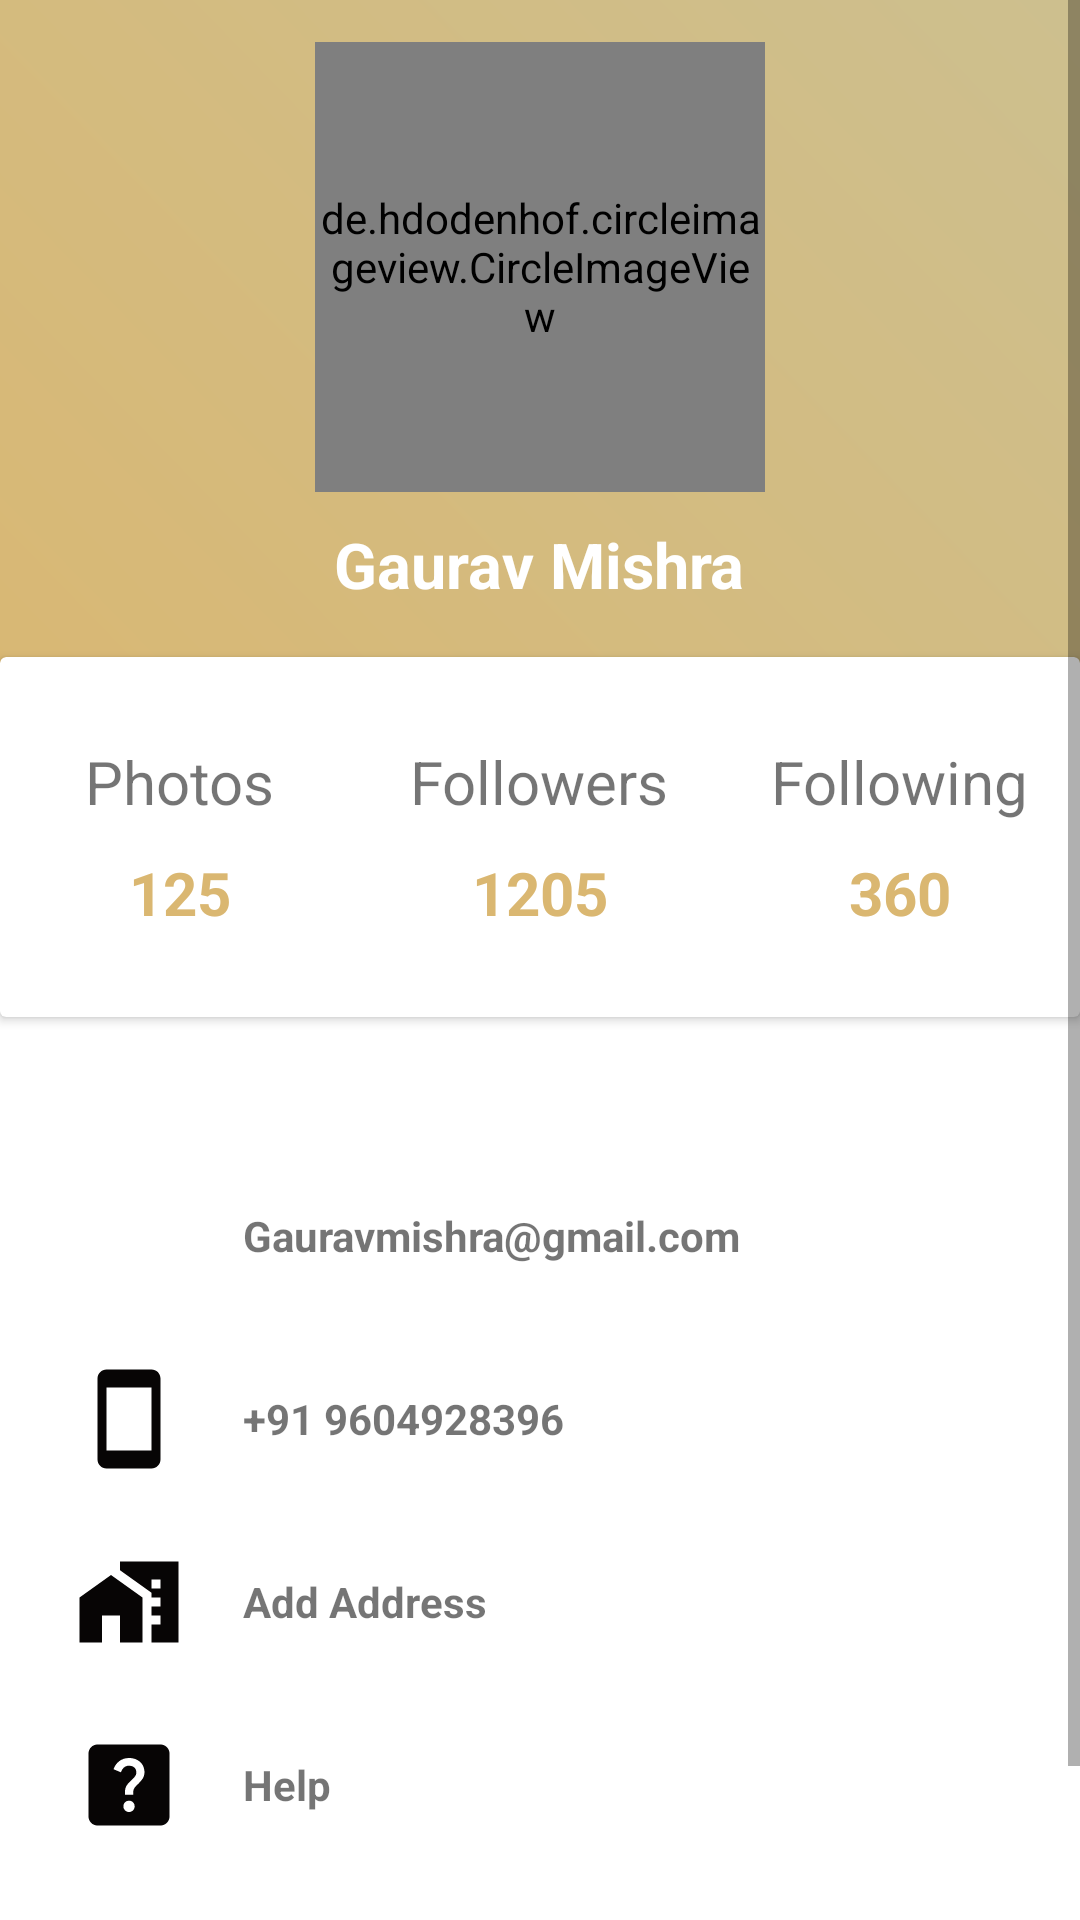

Where icons sit on this 1080 x 1920 app screen, as (x1, y1, x2, y2):
home work: (79, 1561, 179, 1643)
smartphone: (97, 1369, 161, 1469)
